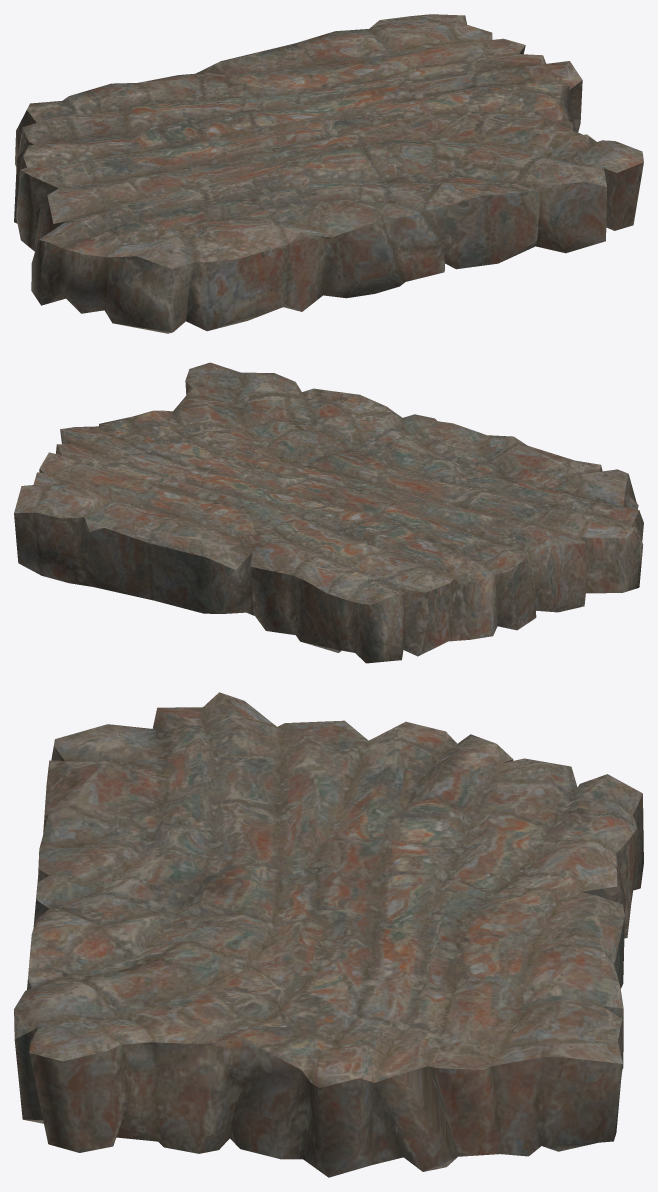
The model's file is bg_rad_kamen_rockfloor03c_sm.obj.
3 renders of one model, top to bottom at view 1: azimuth 30°, elevation 25°; view 2: azimuth 150°, elevation 25°; view 3: azimuth 270°, elevation 25°, orthographic. The views are drawn at different scales.
Visible parts, largest first — view 1: bg_rad_kamen_rockfloor03c_sm_0; view 2: bg_rad_kamen_rockfloor03c_sm_0; view 3: bg_rad_kamen_rockfloor03c_sm_0.
Boxes of the visible parts, left/top/right/bottom form: bg_rad_kamen_rockfloor03c_sm_0: left=14, top=14, right=643, bottom=333; bg_rad_kamen_rockfloor03c_sm_0: left=14, top=362, right=643, bottom=663; bg_rad_kamen_rockfloor03c_sm_0: left=14, top=692, right=643, bottom=1177.
Bounding box in the file's own units: 3.84 × 0.5651 × 2.6.
1 material, 1 textured.
